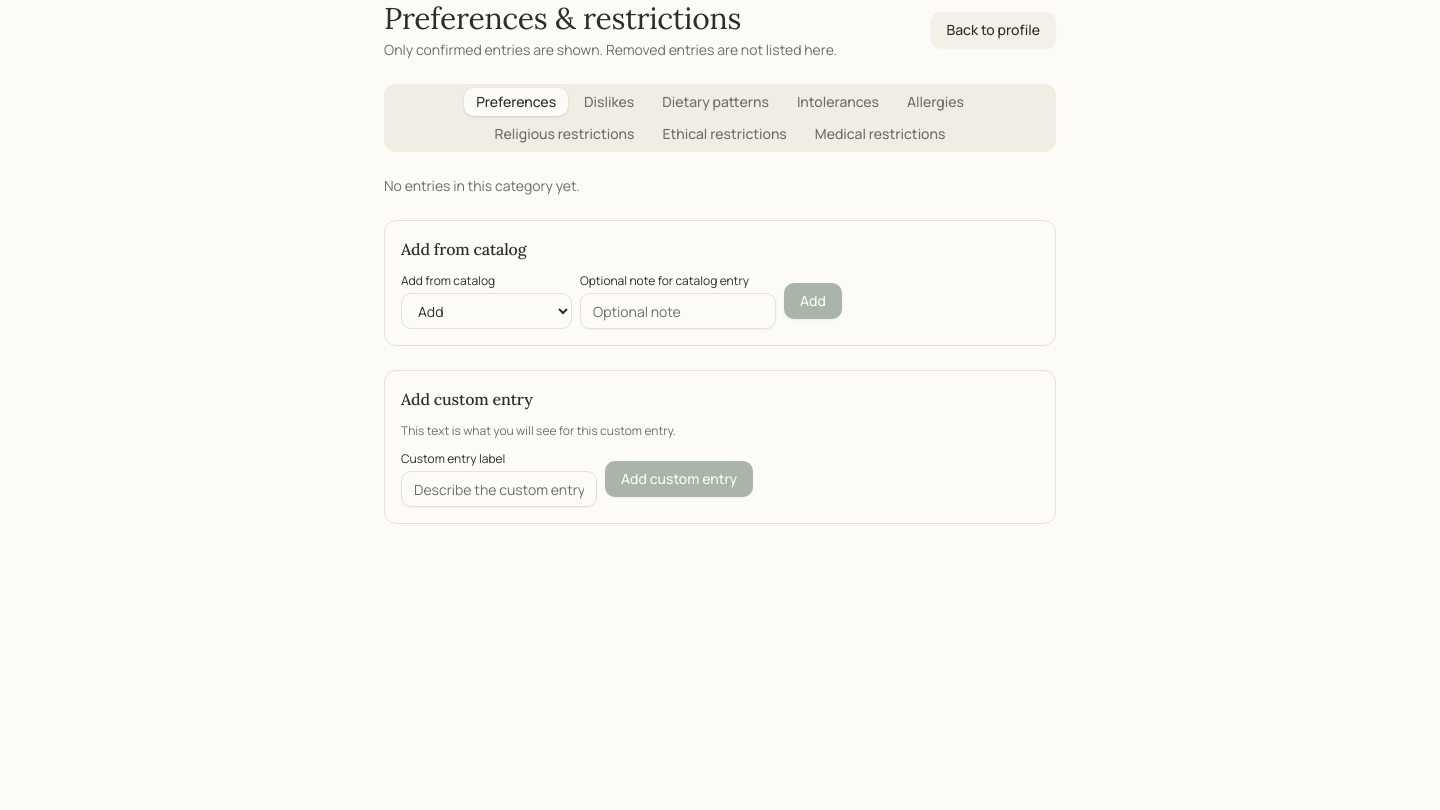
ProfilePreferencesPage › requires explicit sensitive confirmation before adding an Allergy entry, and does not mutate until confirmed
Expected: the element with test id "profile-preferences" is shown, [384, 0, 1056, 524]
Click the tab with test id "profile-preferences-tab-Allergy" at (935, 102), box [895, 88, 976, 116]
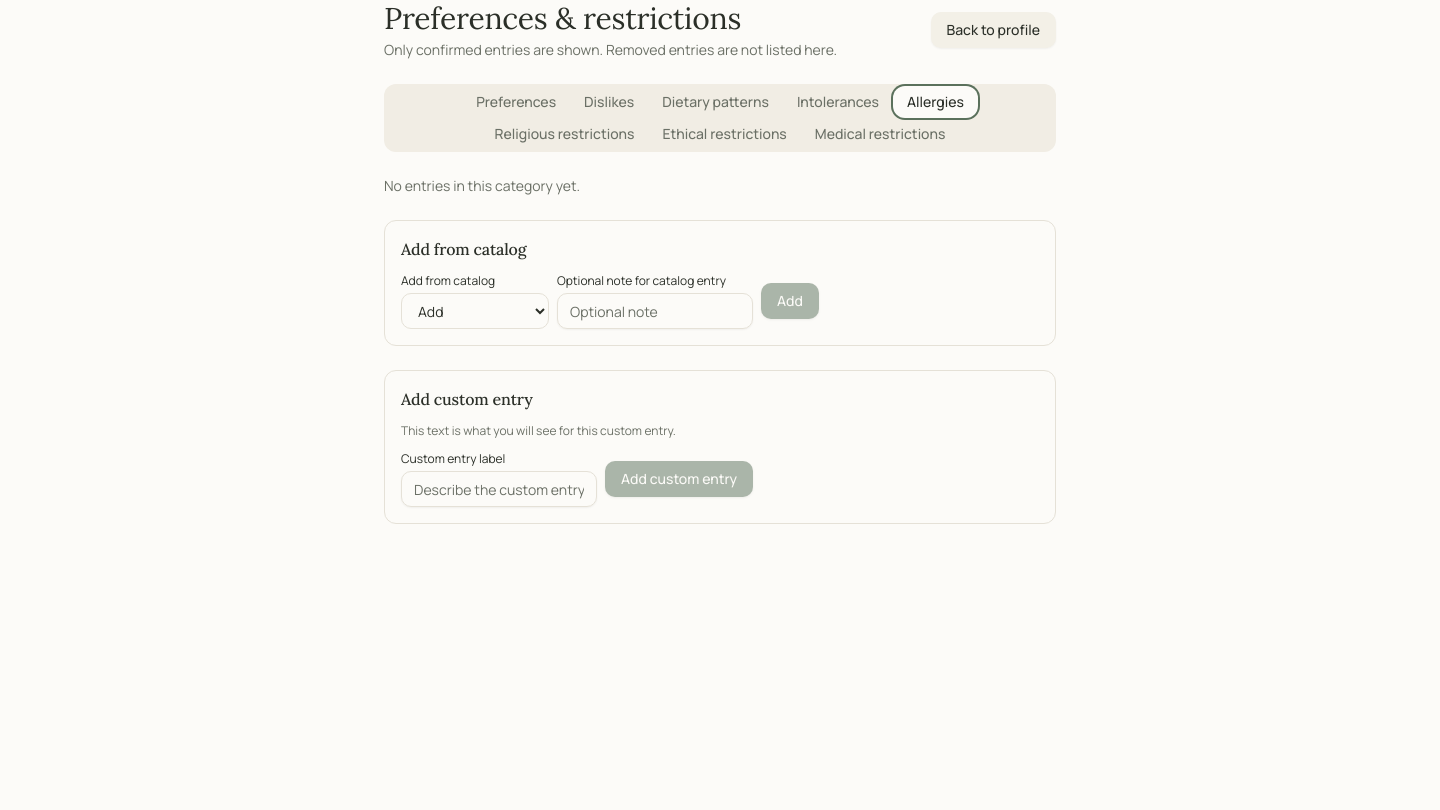
Select "Peanut allergy" in the dropdown with test id "profile-preferences-catalog-select" at (475, 311), box [401, 293, 549, 329]
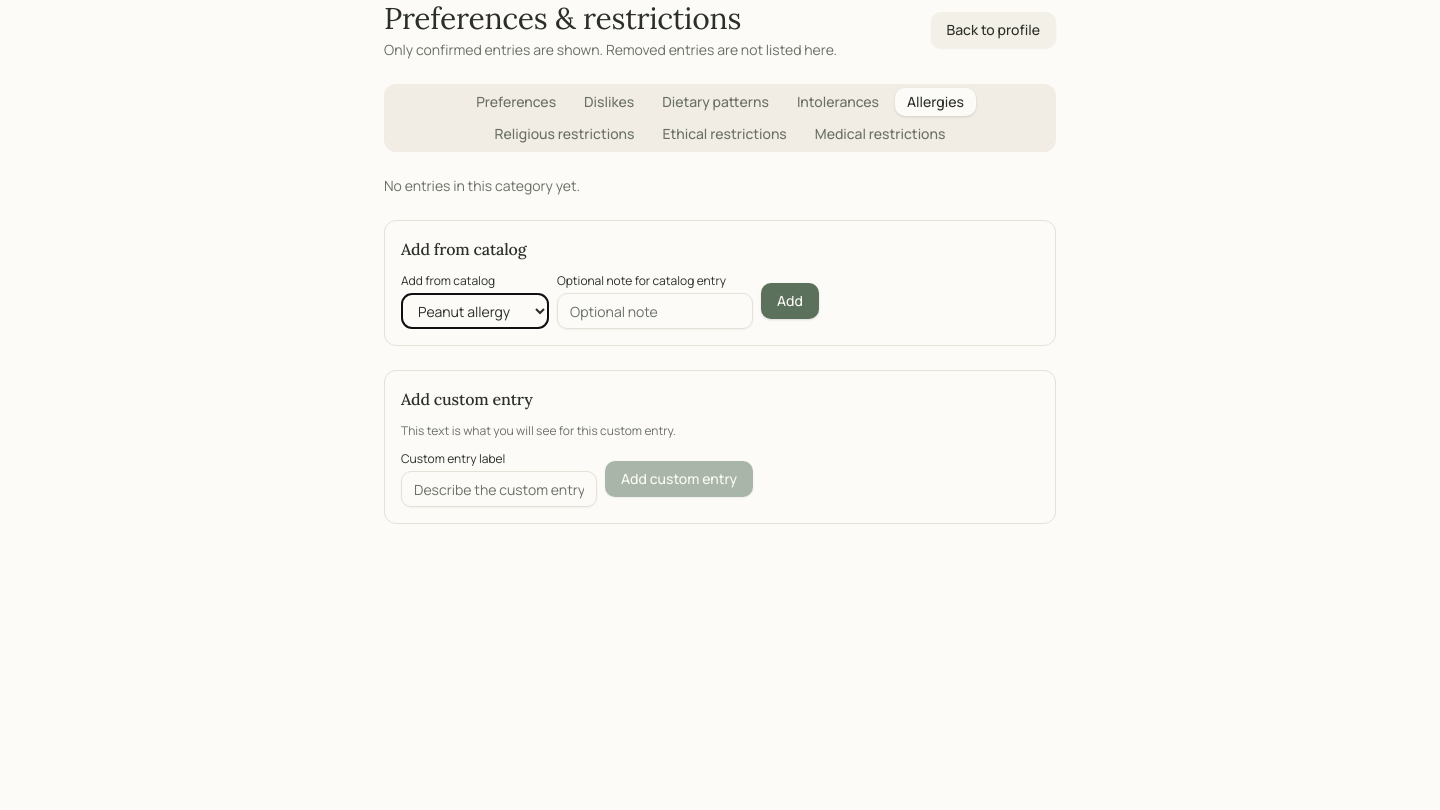
Click the button with test id "profile-preferences-catalog-submit" at (790, 301), box [761, 283, 819, 319]
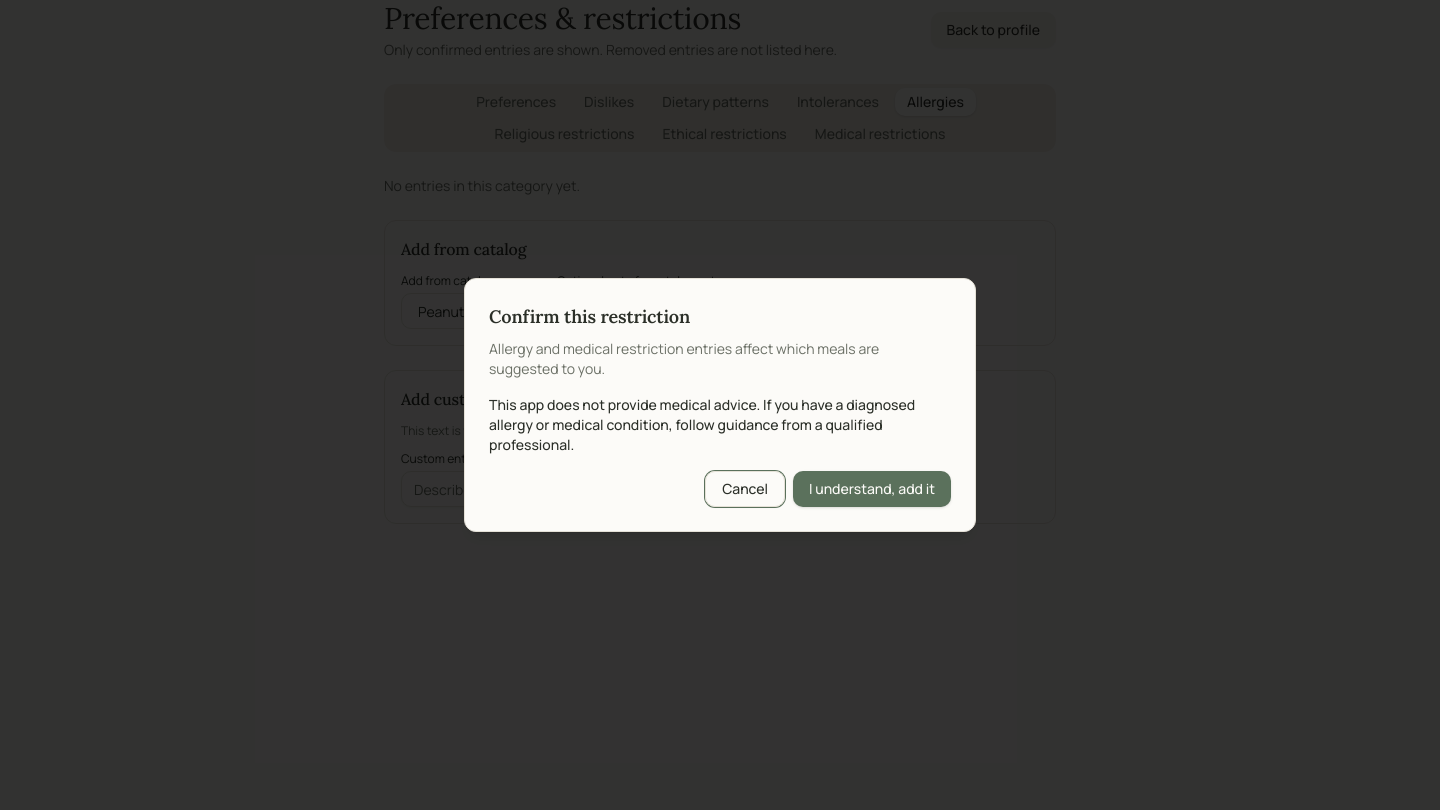
Click the button with test id "profile-preferences-sensitive-confirm-add" at (872, 489), box [793, 471, 951, 507]
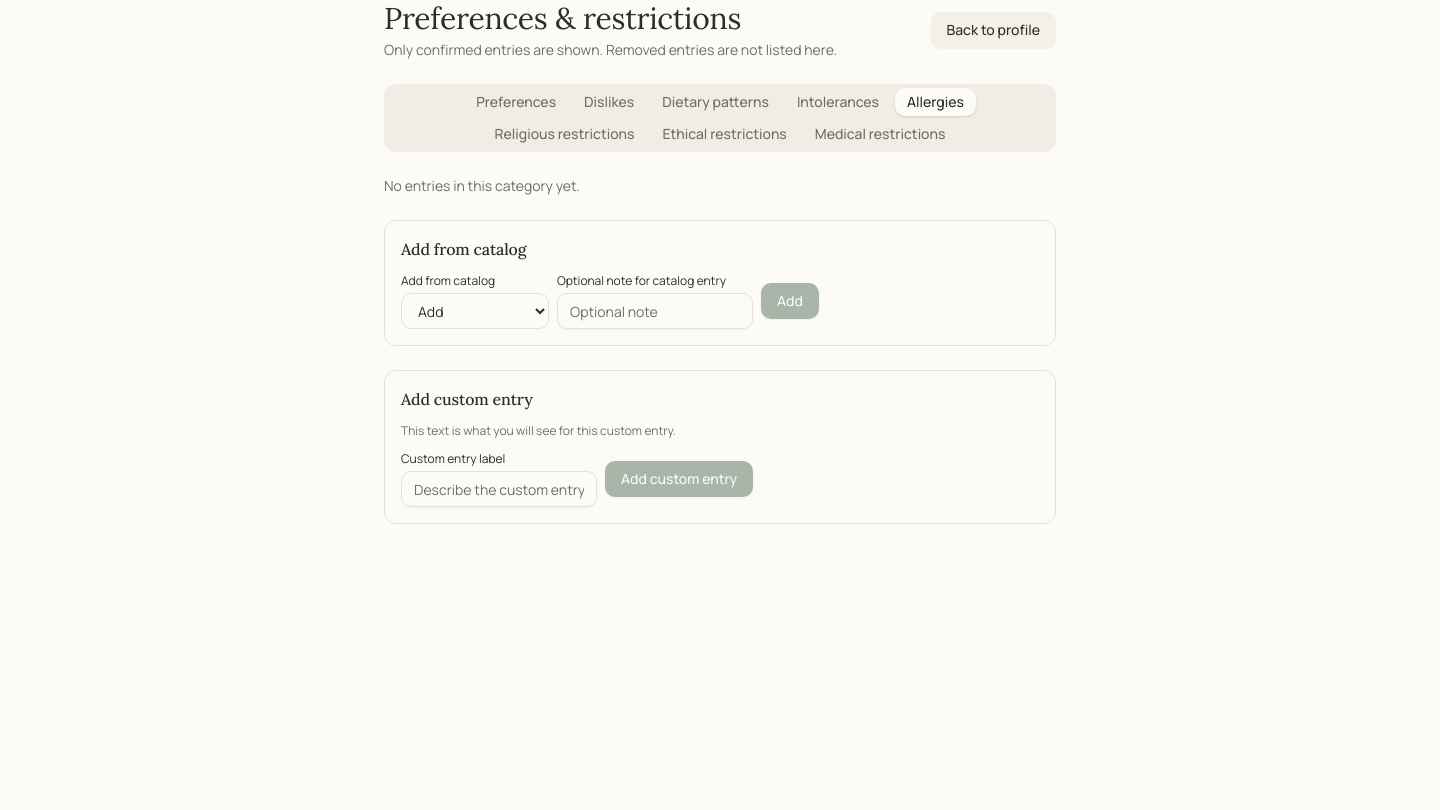
Expected: the dialog with test id "profile-preferences-sensitive-confirm" is gone
